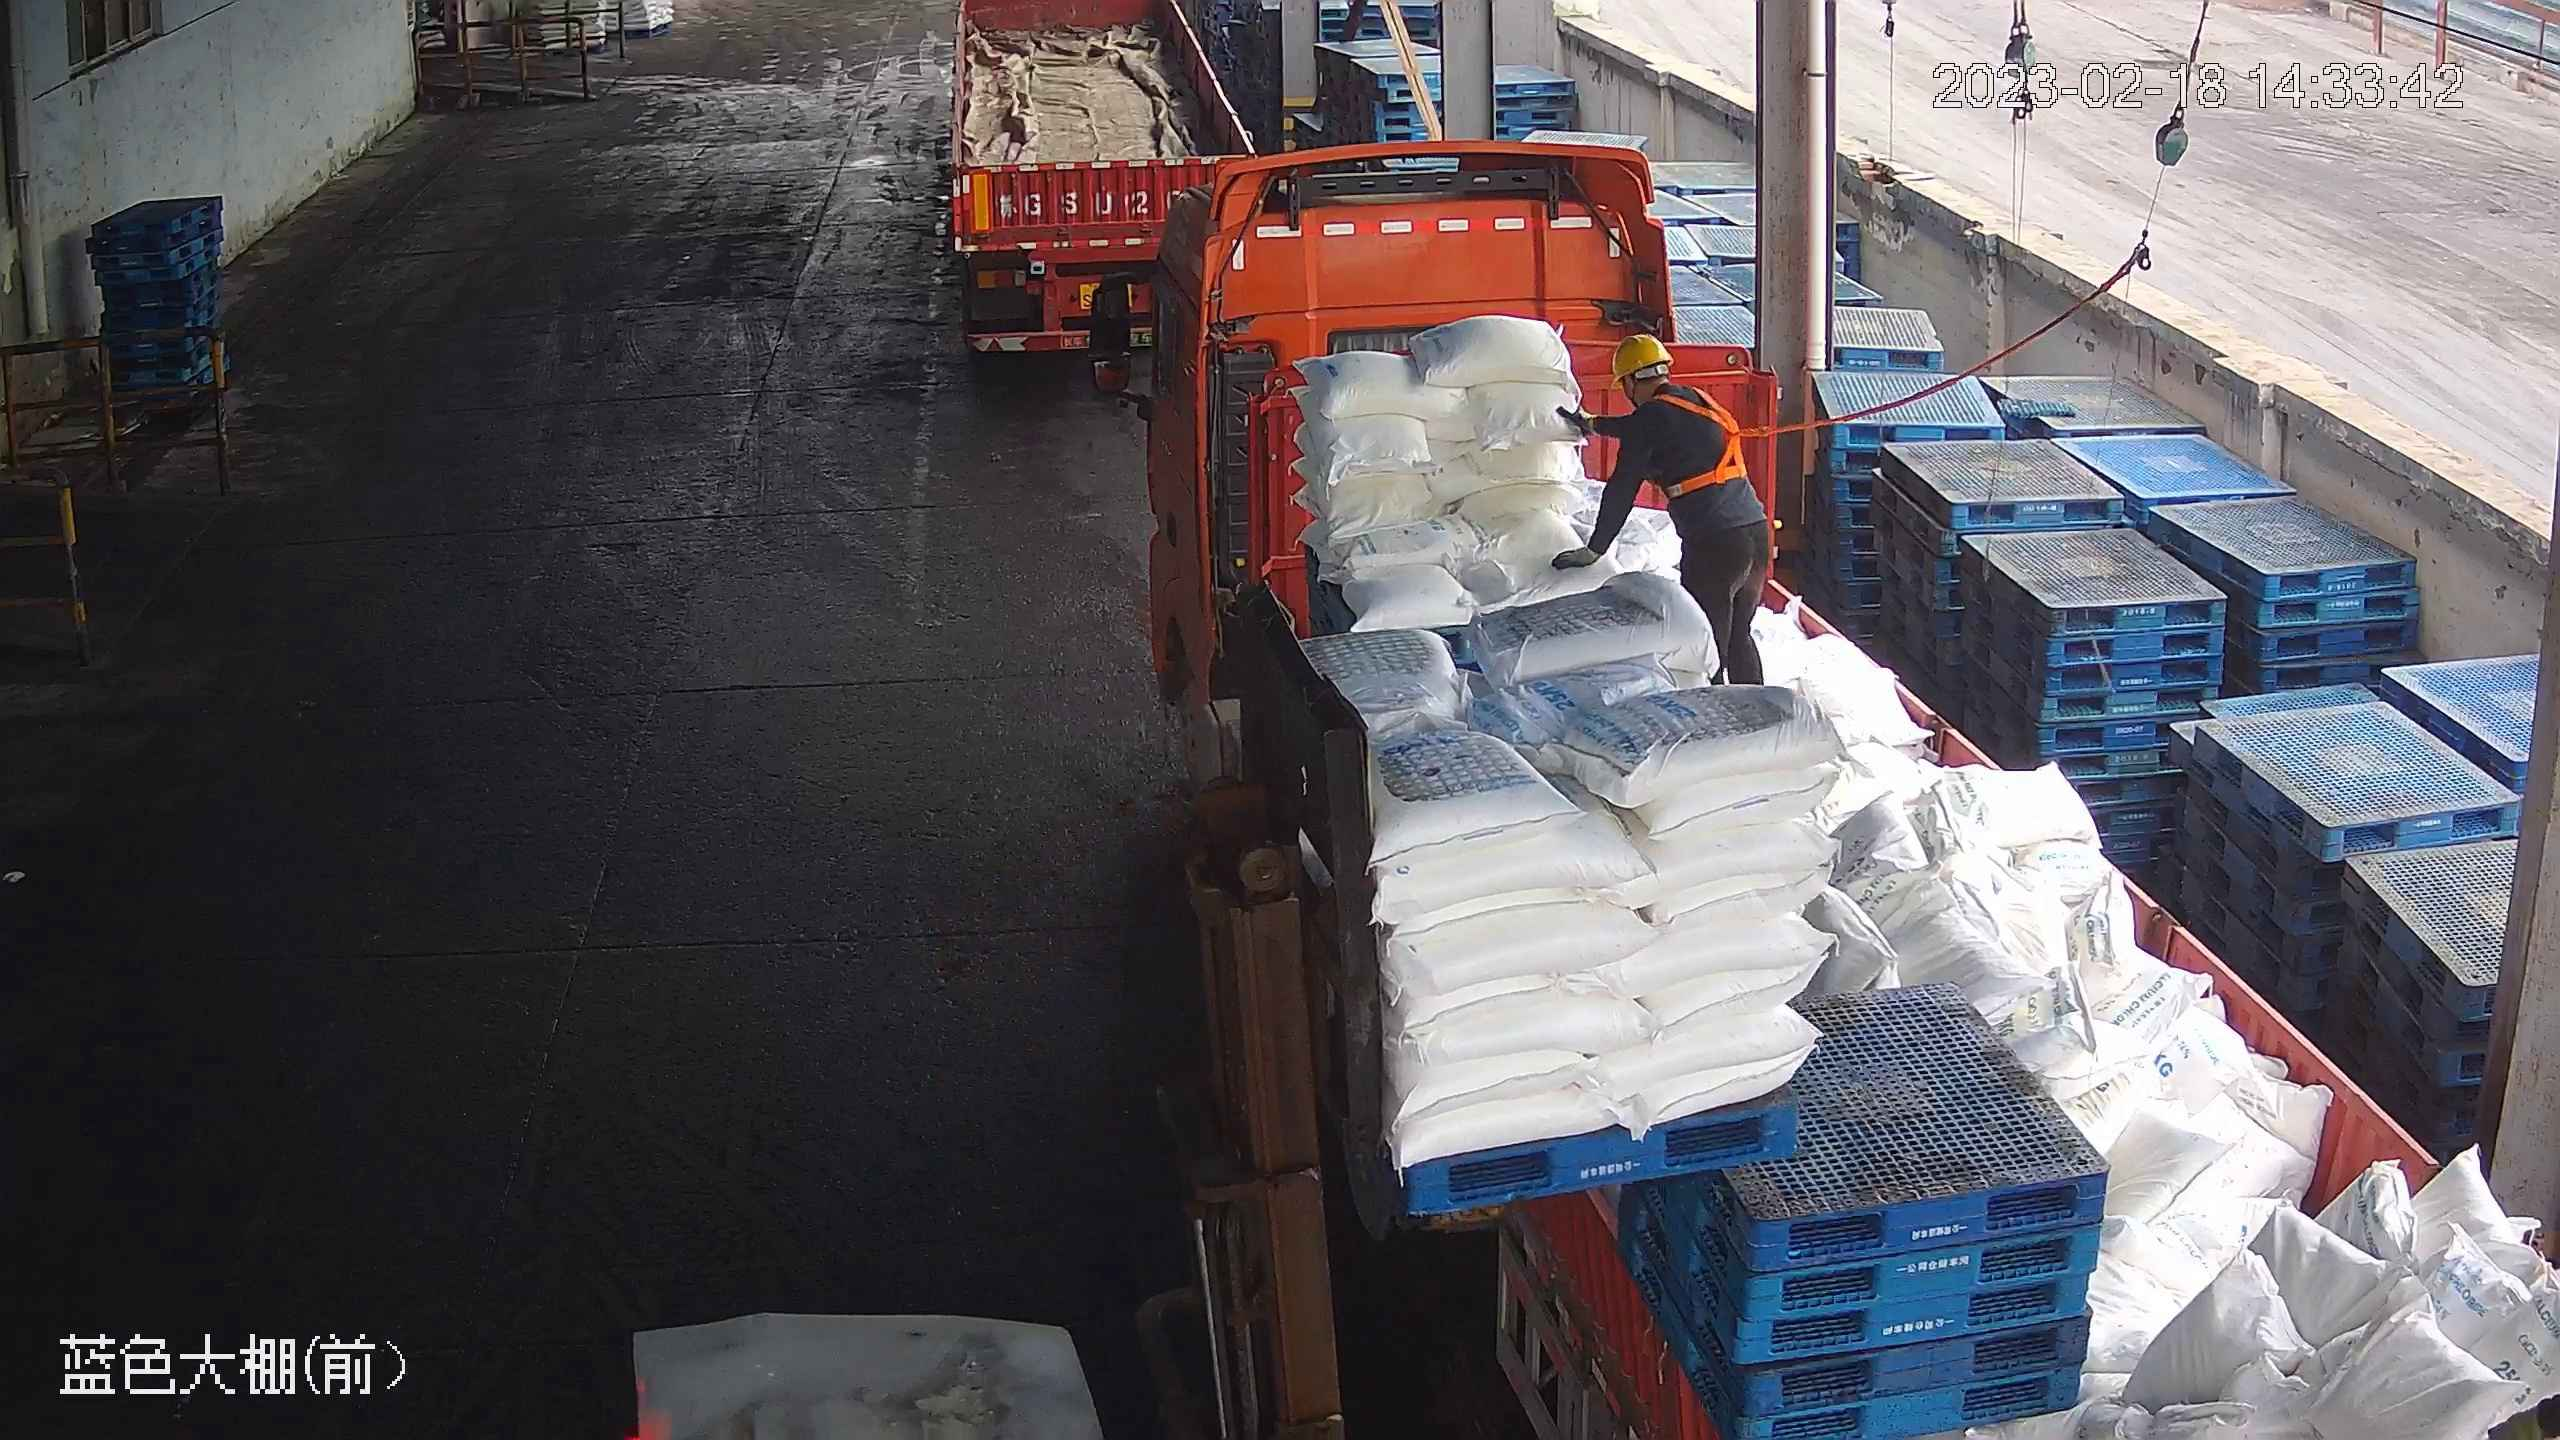belt: (1655, 382, 1767, 496)
head: (1596, 330, 1738, 463)
helmet: (1609, 334, 1676, 384)
people: (1554, 325, 1778, 693)
truck: (1088, 120, 2560, 1440), (940, 1, 1257, 373)
